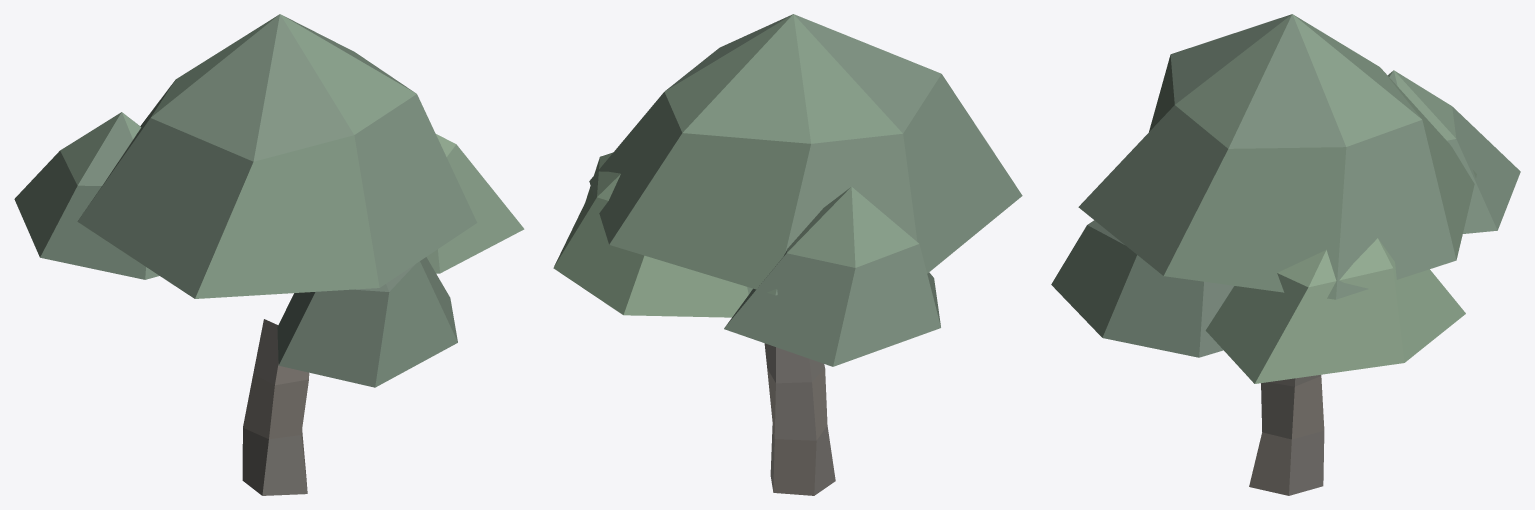
The model's file is tree-distant-b.glb.
The picture shows the model from 3 angles, left to right: view 1: azimuth 30°, elevation 25°; view 2: azimuth 150°, elevation 25°; view 3: azimuth 270°, elevation 25°; orthographic projection.
Parts seen in each view (by area): view 1: Tree_Distant_B; view 2: Tree_Distant_B; view 3: Tree_Distant_B.
Boxes of the visible parts, left/top/right/bottom form: Tree_Distant_B: left=14, top=14, right=524, bottom=495; Tree_Distant_B: left=553, top=14, right=1022, bottom=495; Tree_Distant_B: left=1051, top=14, right=1520, bottom=495.
Size of the model in its own units: 6.05 by 6.42 by 5.82.
1 material, 1 textured.
